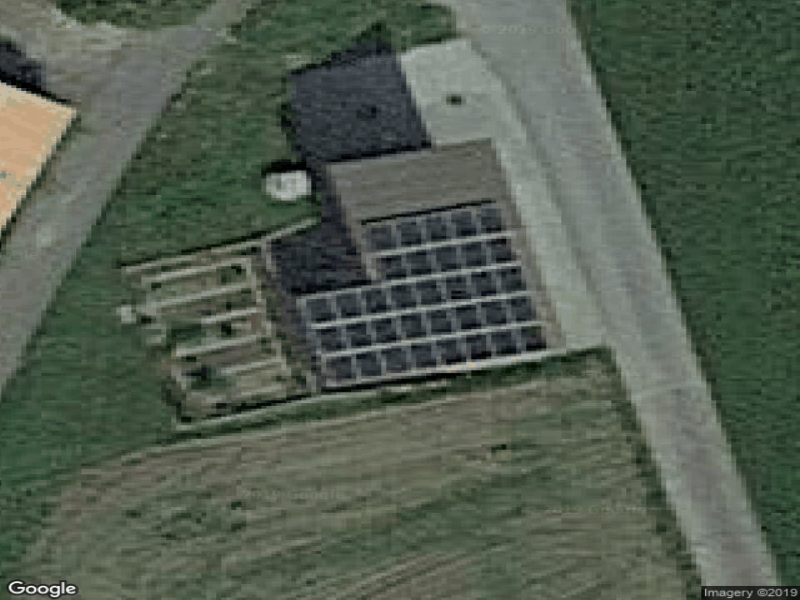pv: (298, 203, 549, 384)
